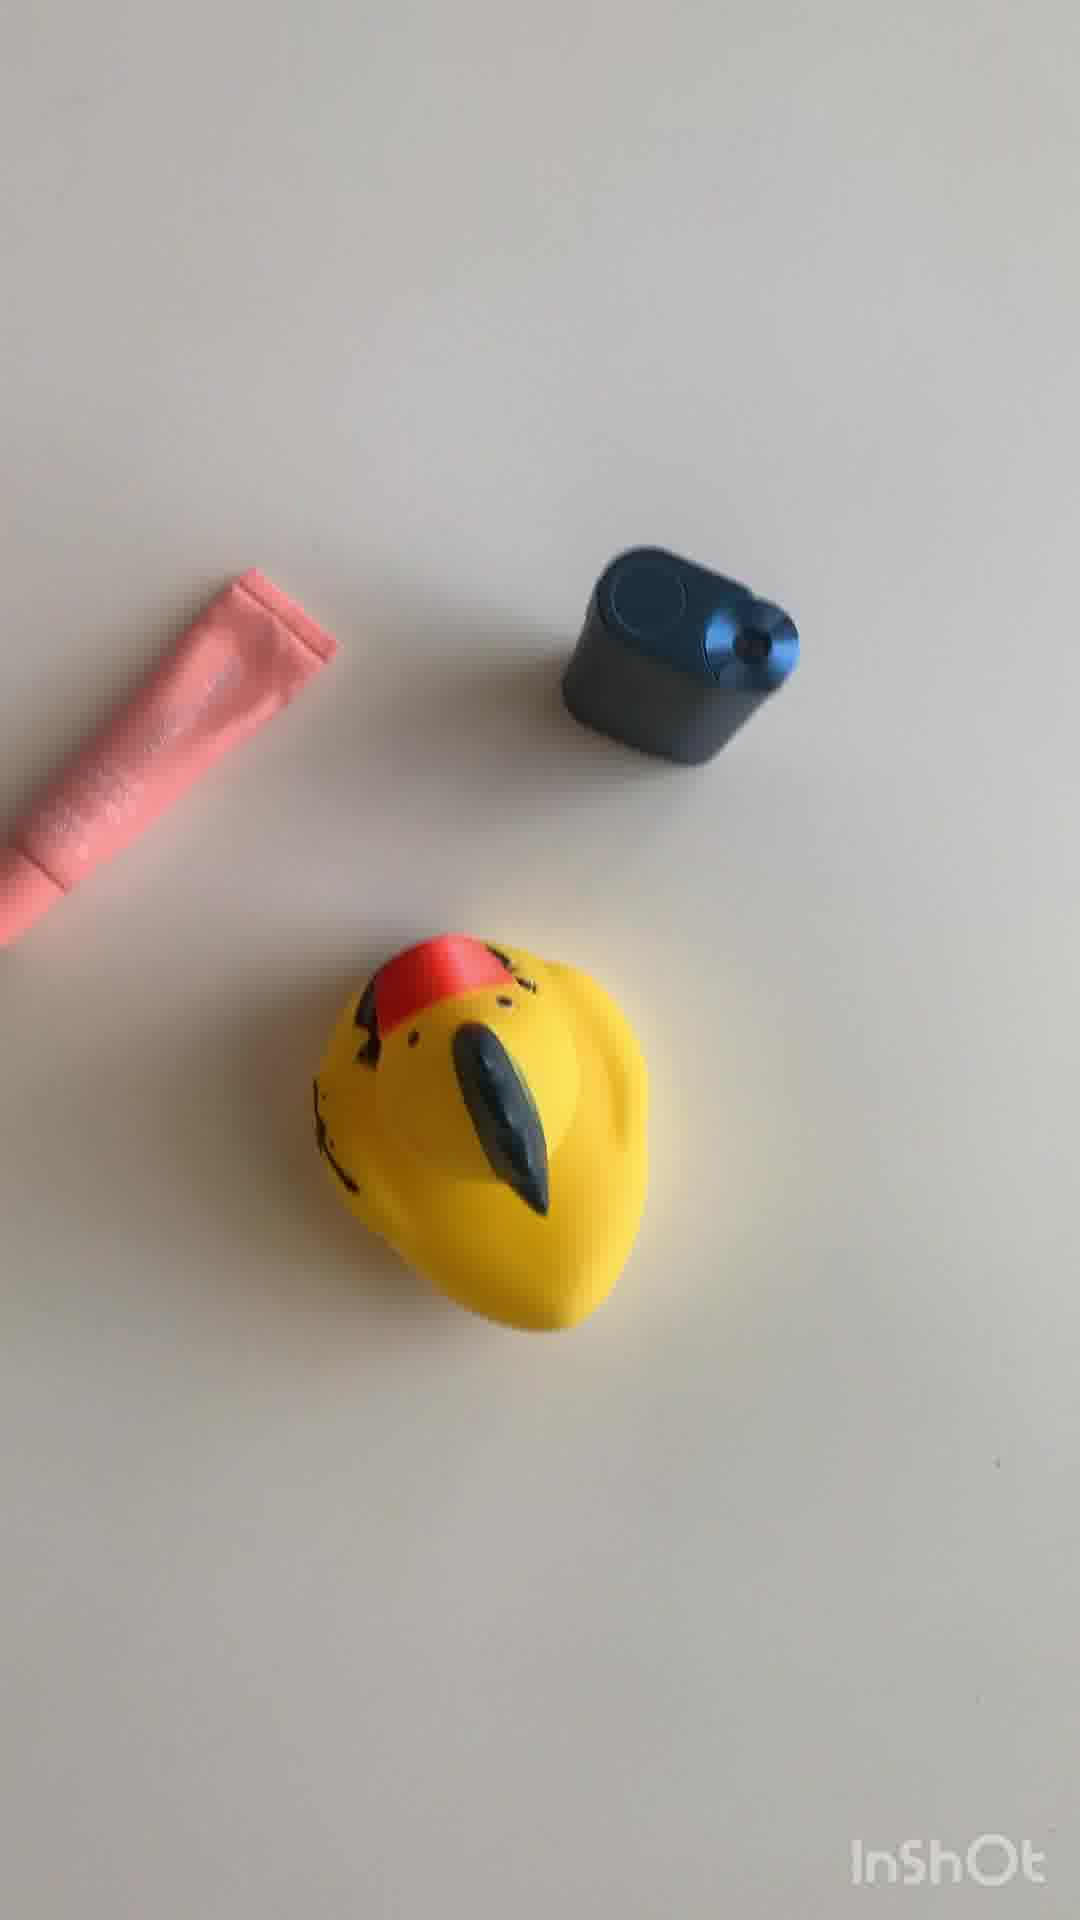duck: (313, 936, 655, 1341)
glo: (554, 541, 800, 775)
lip balm: (1, 568, 342, 959)
